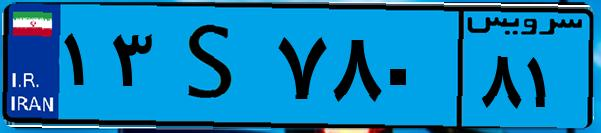0: (385, 28, 445, 110)
1: (57, 26, 110, 100), (525, 38, 570, 115)
3: (110, 28, 158, 98)
7: (270, 28, 330, 110)
8: (330, 28, 385, 110), (475, 38, 525, 113)
S: (158, 12, 270, 120)
